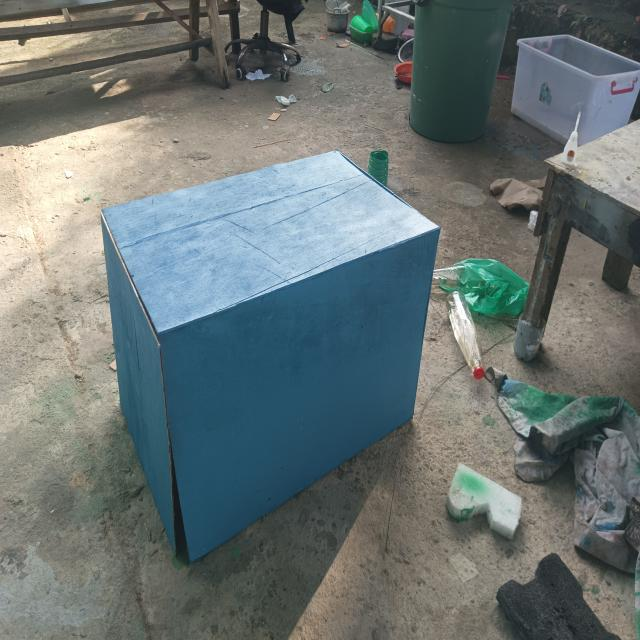blue_box: (95, 145, 448, 564)
